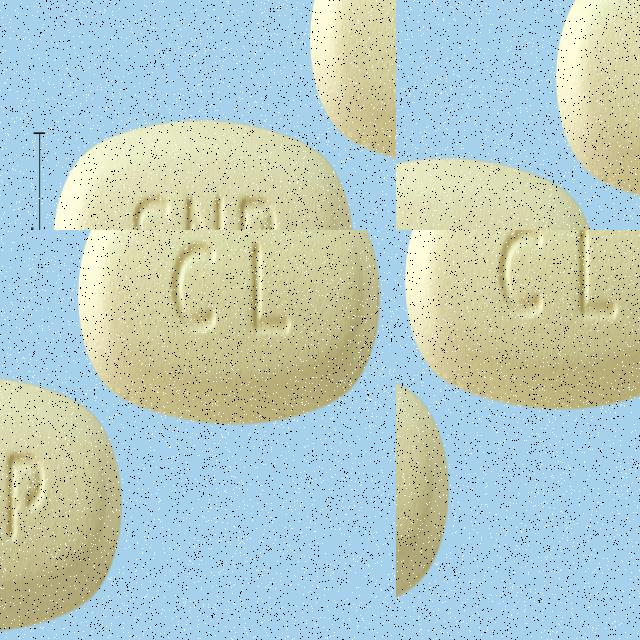A Progen Clarithromycin Tab-500mg: (402, 230, 640, 414)
Bearcin - 500mg: (396, 0, 549, 230), (580, 0, 640, 230)
Ciflox - 250mg: (49, 0, 302, 230)
Clarithin: (0, 477, 179, 640)
